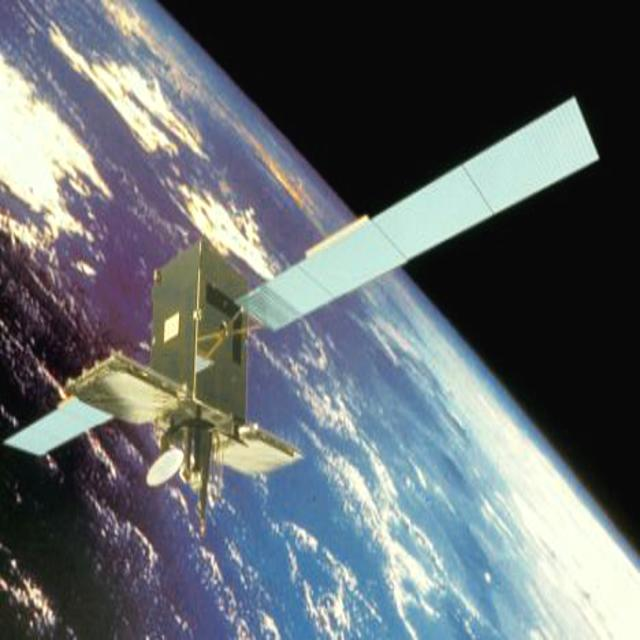satellite: (0, 81, 640, 549)
